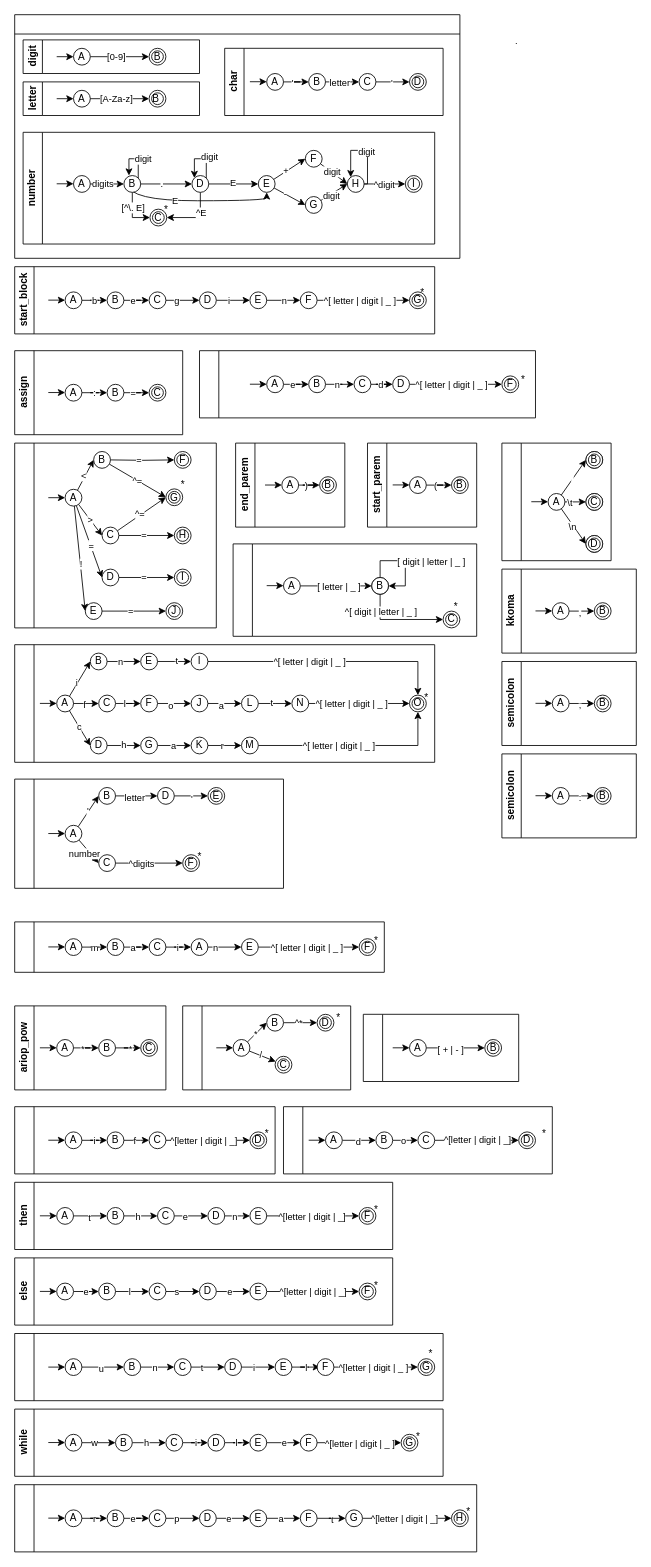
This 651x1567 diagram has some shape labels left out. The box of each missing label's shape, as (x1, y1, x2, y2) in pixels:
AFDs Auxiliares: (14, 14, 460, 258)
ariop_mult: (182, 1005, 351, 1090)
ariop_sum: (362, 1013, 519, 1082)
constant: (14, 778, 284, 888)
do: (283, 1106, 552, 1174)
end_block: (199, 350, 536, 418)
identifier: (232, 543, 477, 636)
if: (14, 1106, 275, 1174)
main: (14, 921, 384, 972)
relop: (14, 442, 216, 628)
repeat: (14, 1484, 477, 1552)
separator: (501, 442, 611, 561)
type: (14, 644, 435, 762)
until: (14, 1333, 443, 1401)
